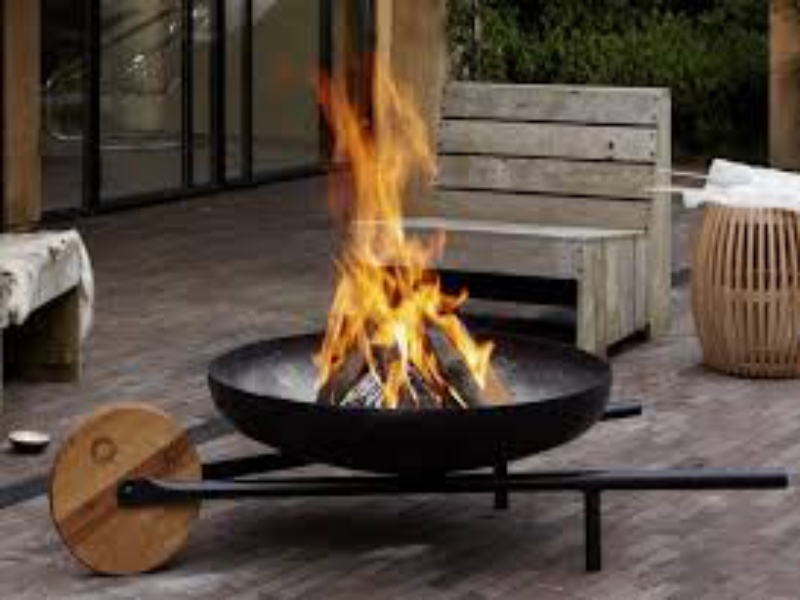fire: (314, 54, 493, 402)
